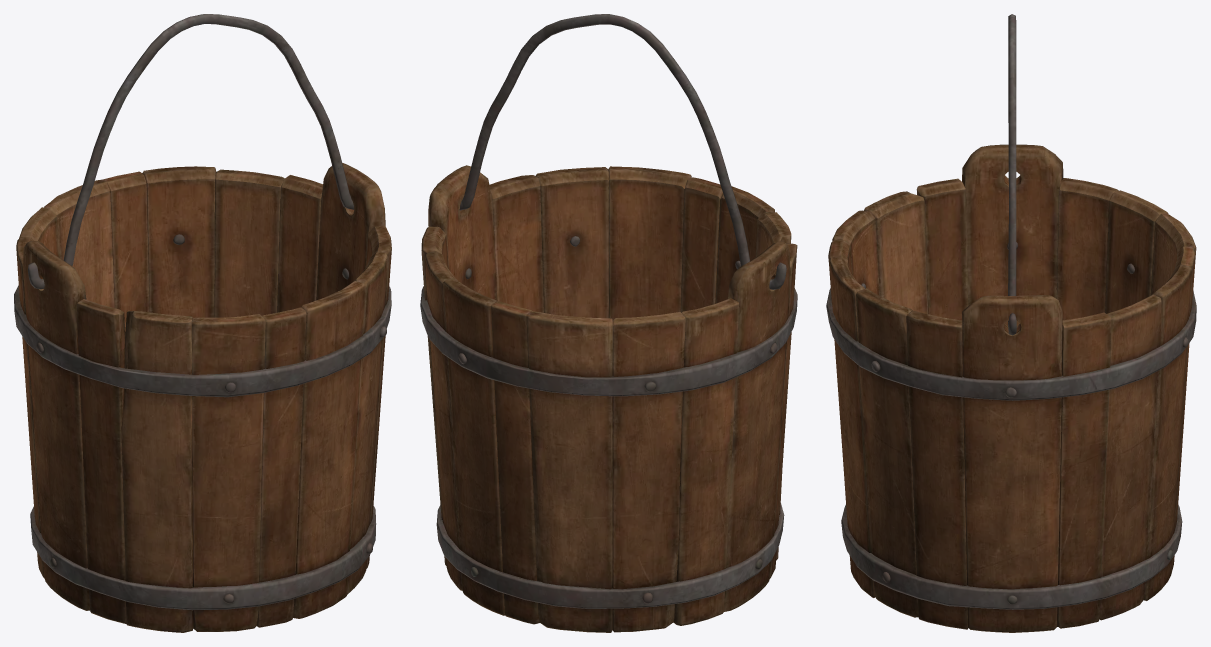
The model's file is wooden_bucket_01.glb.
3 renders of one model, left to right at view 1: azimuth 30°, elevation 25°; view 2: azimuth 150°, elevation 25°; view 3: azimuth 270°, elevation 25°, orthographic.
Parts seen in each view (by area): view 1: wooden_bucket_01, wooden_bucket_01_handle; view 2: wooden_bucket_01, wooden_bucket_01_handle; view 3: wooden_bucket_01, wooden_bucket_01_handle.
Boxes of the visible parts, x1,y1,x2,y2 form: wooden_bucket_01: (14, 163, 391, 632); wooden_bucket_01_handle: (27, 14, 354, 289); wooden_bucket_01: (420, 165, 797, 632); wooden_bucket_01_handle: (437, 14, 786, 289); wooden_bucket_01: (826, 144, 1196, 632); wooden_bucket_01_handle: (1008, 14, 1016, 335).
Bounding box in the file's own units: 0.367 × 0.5499 × 0.3422.
1 material, 1 textured.
